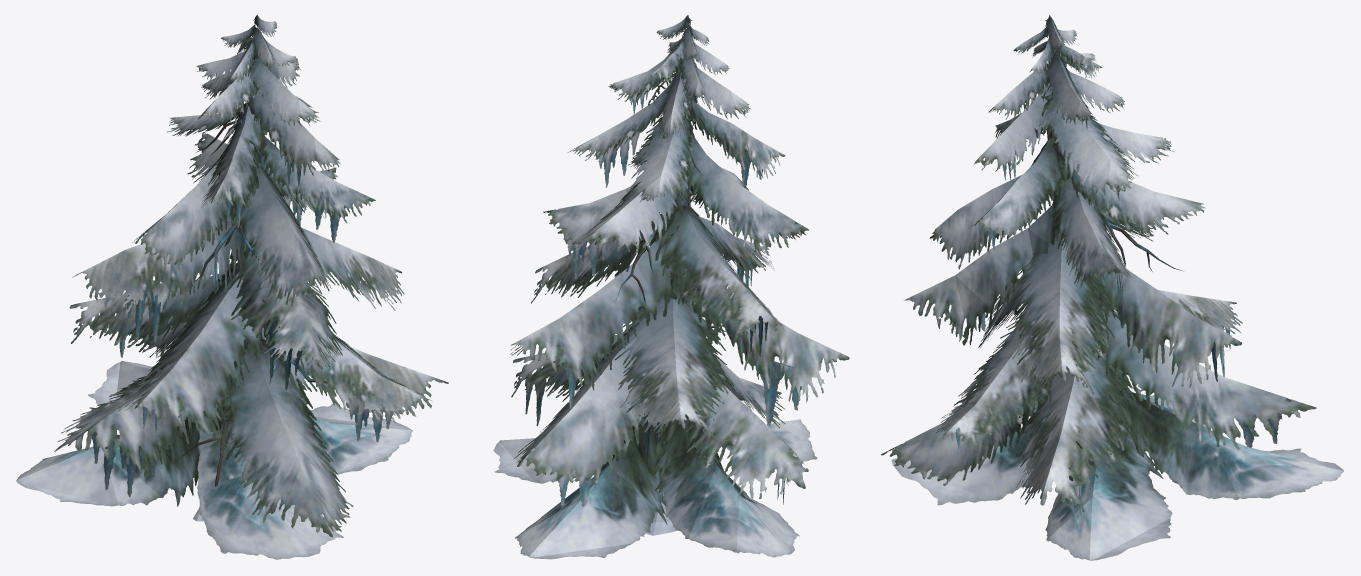
The model's file is bs_shu_2.FBX.
3 renders of one model, left to right at view 1: azimuth 30°, elevation 25°; view 2: azimuth 150°, elevation 25°; view 3: azimuth 270°, elevation 25°, orthographic. The views are drawn at different scales.
Visible parts, largest first — view 1: bs_shu_2; view 2: bs_shu_2; view 3: bs_shu_2.
Boxes of the visible parts, x1=… form: bs_shu_2: x1=16, y1=15, x2=448, y2=559; bs_shu_2: x1=493, y1=15, x2=849, y2=559; bs_shu_2: x1=881, y1=15, x2=1343, y2=560.
Bounding box in the file's own units: 3235 × 4385 × 3698.
